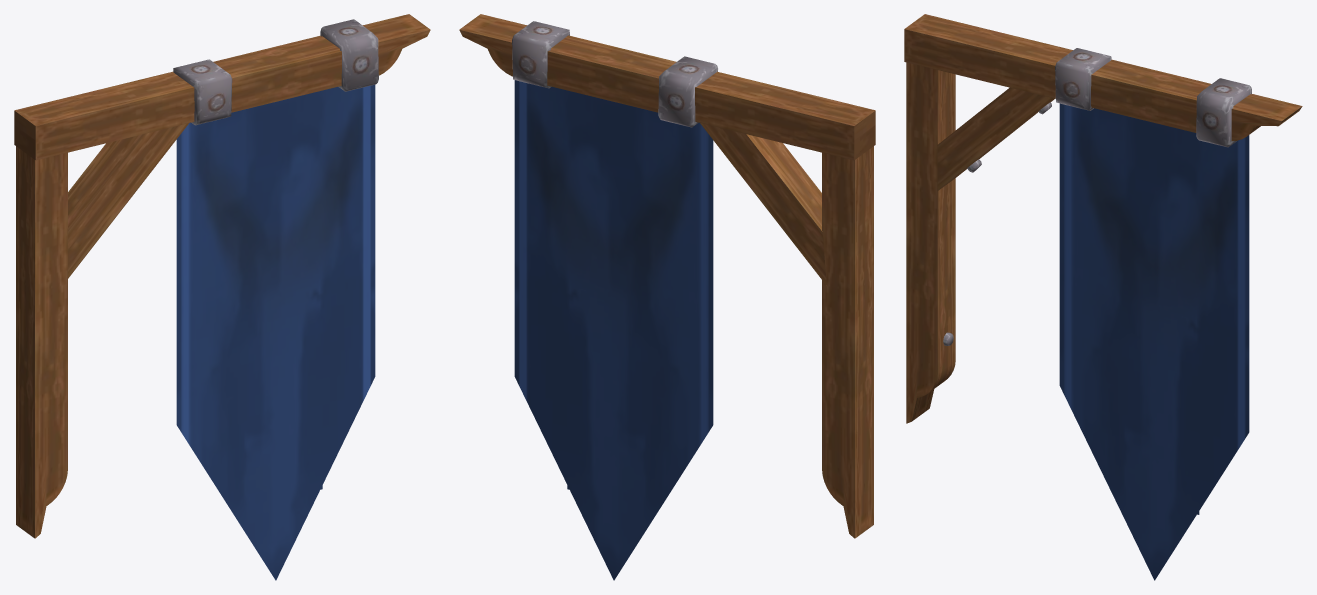
File: Banner 2.glb
3 renders of one model, left to right at view 1: azimuth 30°, elevation 25°; view 2: azimuth 150°, elevation 25°; view 3: azimuth 330°, elevation 25°, orthographic. The views are drawn at different scales.
Parts seen in each view (by area): view 1: Banner_2; view 2: Banner_2; view 3: Banner_2.
Part boxes in pixels (x1,y1,x2,y2): Banner_2: (14,14,430,580); Banner_2: (459,14,875,580); Banner_2: (904,14,1302,580).
Bounding box in the file's own units: 1.61 × 2.08 × 0.1906.
Materials: 3 (3 with a texture image).
